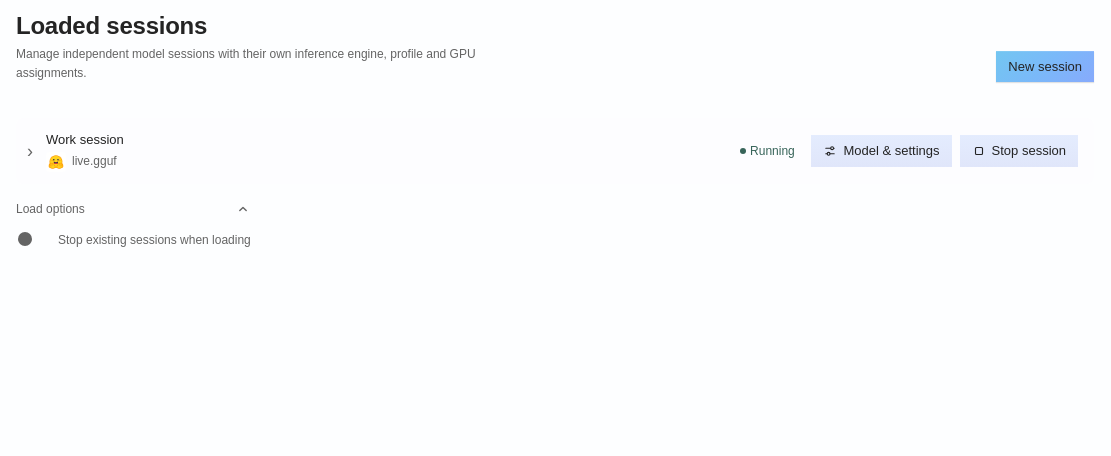
it: session model settings › keeps editing and diagnostic controls collapsed while row actions remain available
This screenshot has width=1111, height=456.
Expected: the button "Stop session" is enabled, [960, 135, 1078, 167]
Expected: the field labelled "Session name" is not shown
Click the button "› Work session live.gguf".
click(85, 140)  # box [24, 130, 724, 172]
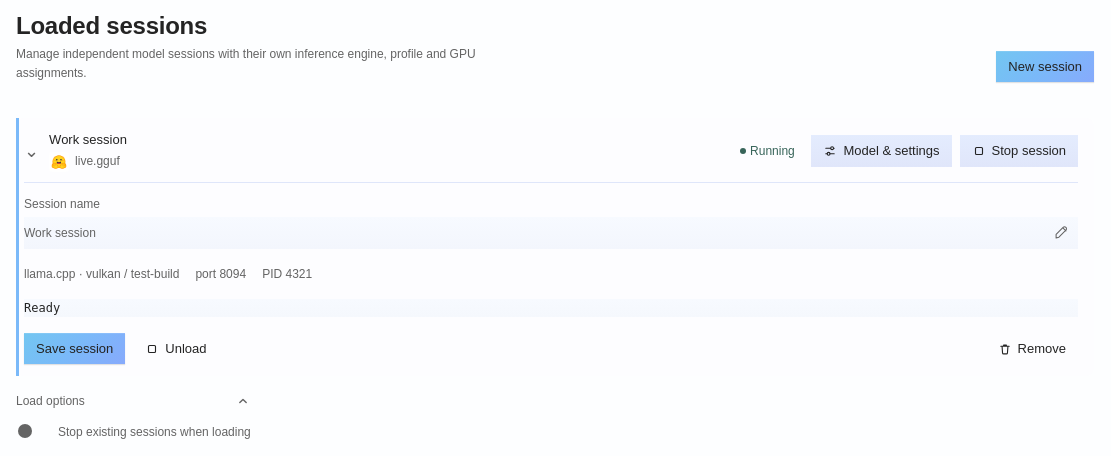
Expected: the button "⌄ Work session live.gguf" is expanded
Expected: the field labelled "Session name" holds "Work session", [24, 217, 1078, 249]
Expected: the text "PID 4321" is shown, [262, 265, 312, 283]
Click the button "⌄ Work session live.gguf".
click(88, 140)  # box [24, 130, 724, 172]
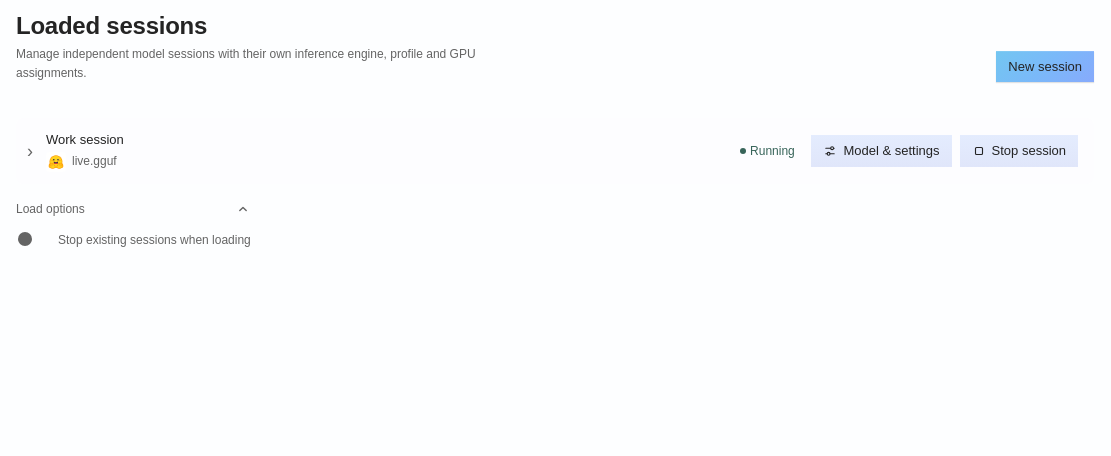
Expected: the label labelled "Session name" is gone
